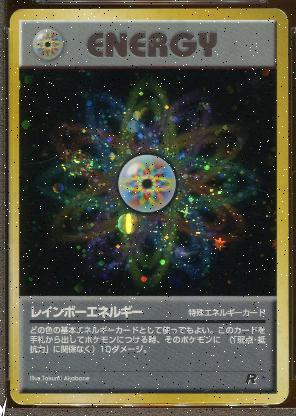Card: (9, 6, 289, 406)
Corner Wear: (272, 6, 287, 20)
